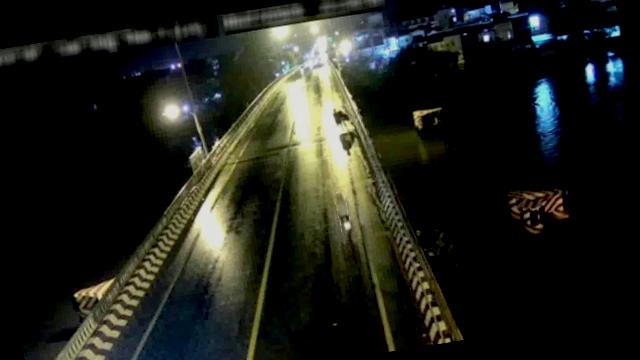Bike: (334, 190, 352, 234)
Truck: (331, 103, 354, 134)
